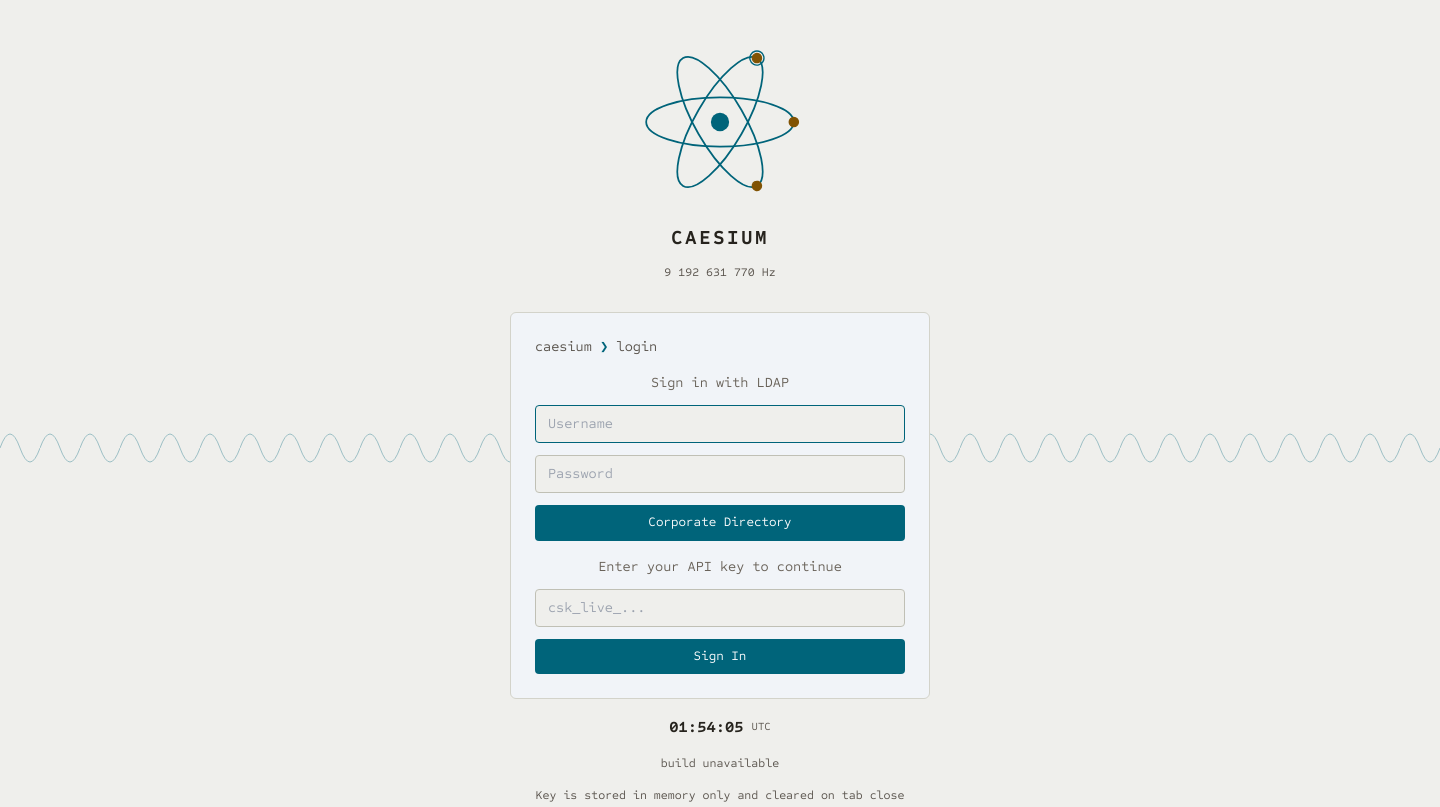
Test: LoginPage › shows an LDAP denial without authenticating
The image size is (1440, 807).
Type "ada" into the field with placeholder "Username".
click(720, 424); type("ada")  # box x1=535 y1=405 x2=905 y2=443
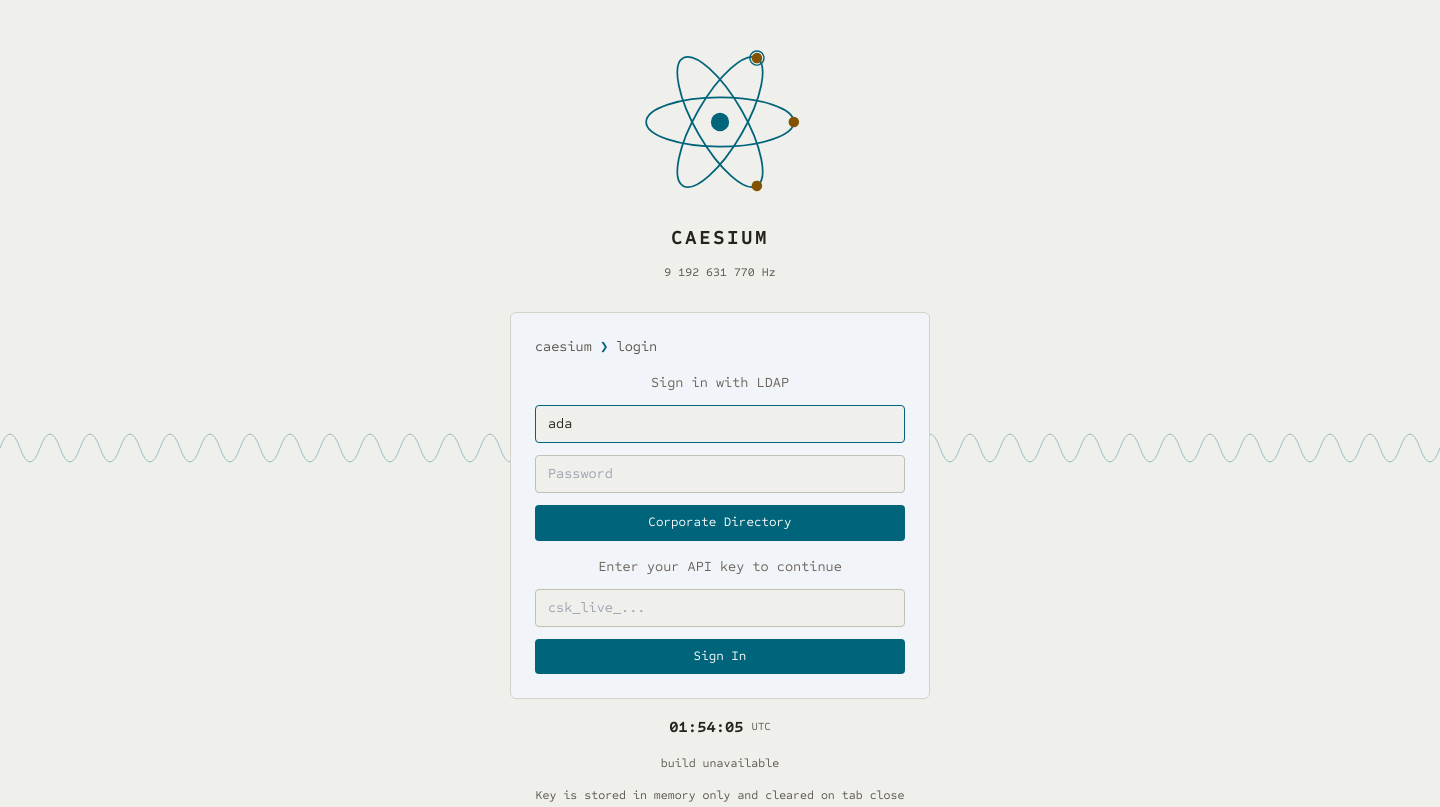
Type "secret" into the password field with placeholder "Password".
click(720, 474); type("secret")  # box x1=535 y1=455 x2=905 y2=493
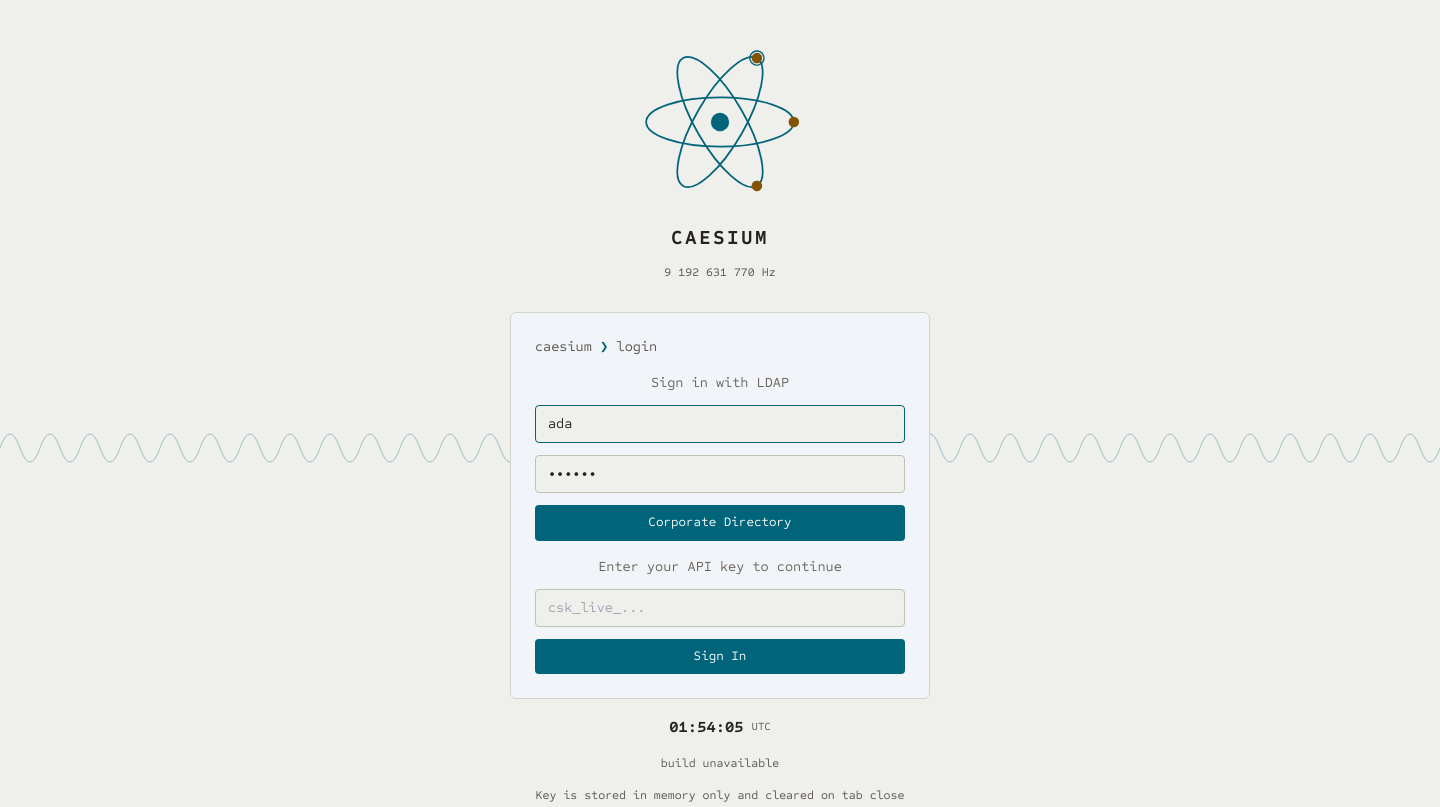
Click the button "Corporate Directory".
click(720, 523)  # box x1=535 y1=505 x2=905 y2=540
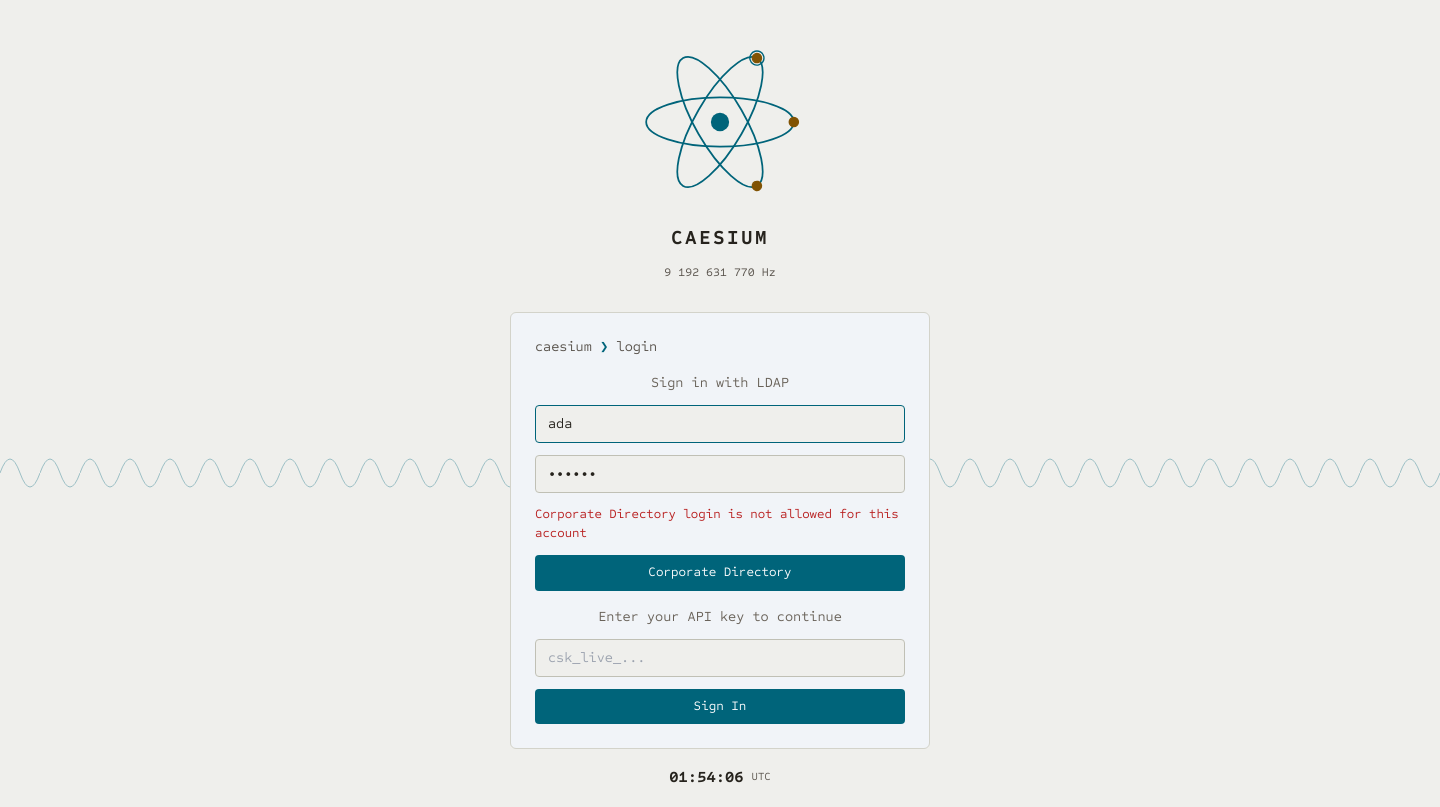
Expected: the text "Corporate Directory login is not allowed for this account" is shown, x1=535 y1=505 x2=905 y2=543
